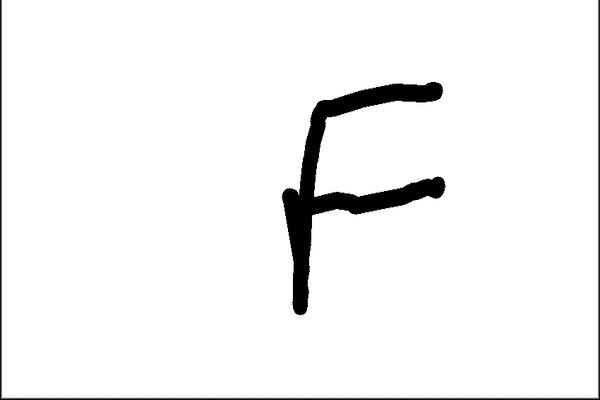F: (278, 78, 447, 316)
